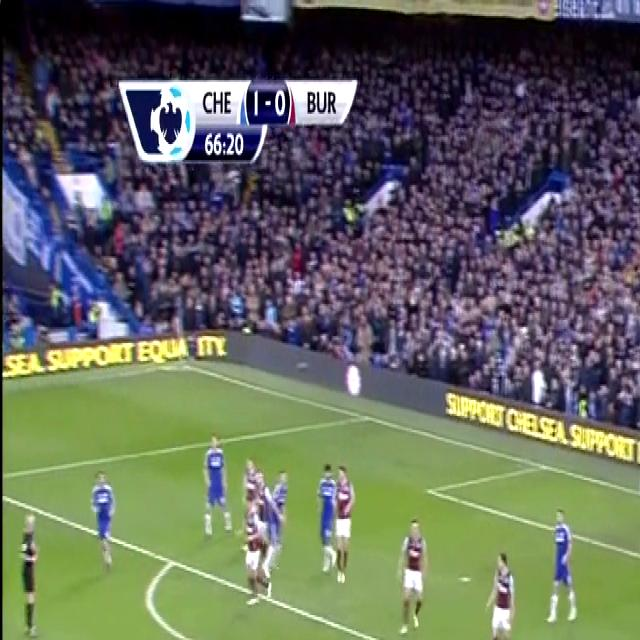referee: (12, 503, 44, 640)
soccer-player: (312, 454, 358, 596), (394, 499, 436, 640), (542, 496, 584, 634), (198, 421, 234, 547), (475, 535, 518, 640), (84, 459, 120, 582), (242, 502, 276, 617), (238, 445, 266, 538), (269, 461, 295, 561), (21, 633, 72, 640)
